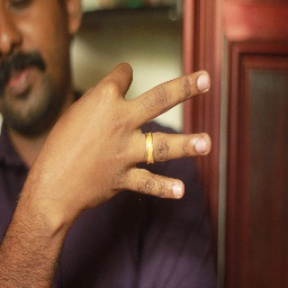K: (40, 61, 218, 219)
